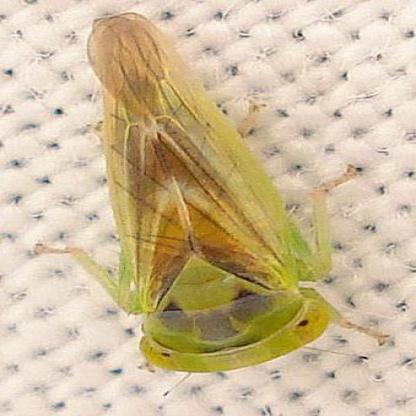green-leafhopper: (71, 14, 354, 372)
